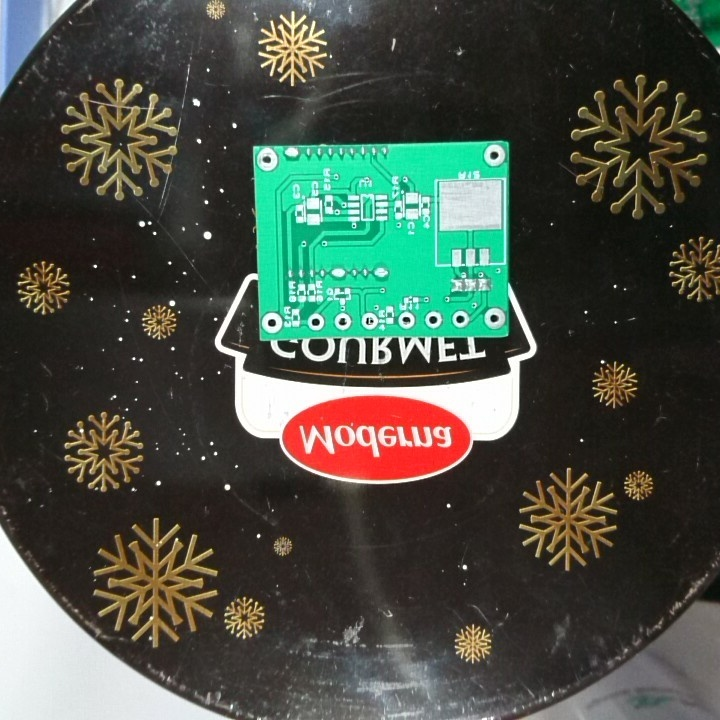F: (253, 146, 281, 175), (259, 310, 285, 335), (482, 143, 507, 169), (482, 306, 506, 331), (331, 310, 354, 334), (449, 308, 471, 330), (423, 310, 445, 332), (396, 309, 417, 330), (359, 310, 379, 332), (305, 312, 326, 332)
P: (282, 145, 302, 163), (329, 265, 348, 281), (371, 265, 391, 280)
